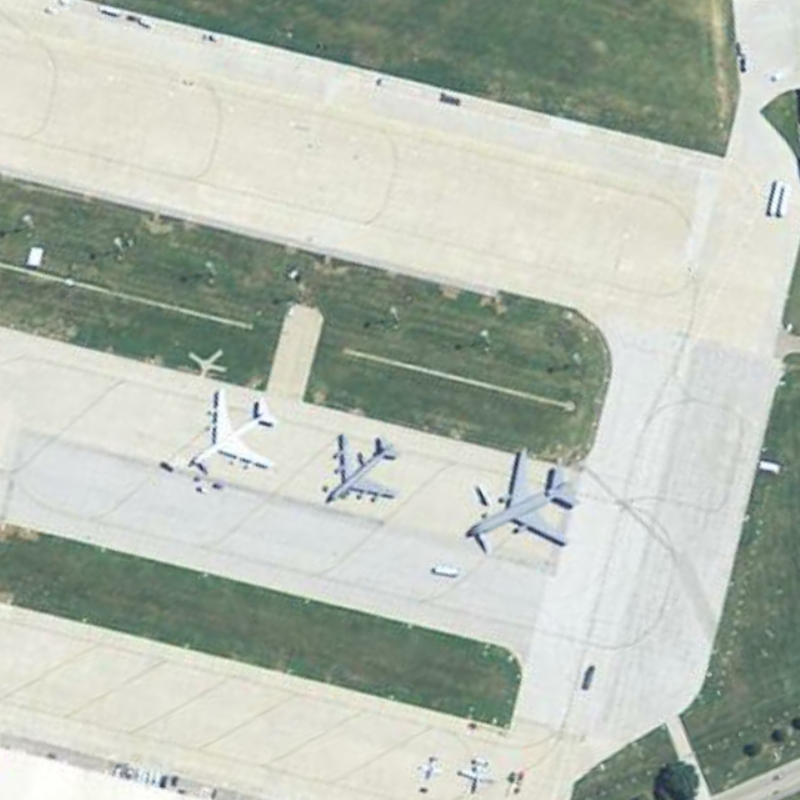A11: (186, 384, 277, 477)
A14: (315, 424, 402, 513)
A18: (456, 438, 577, 559)
